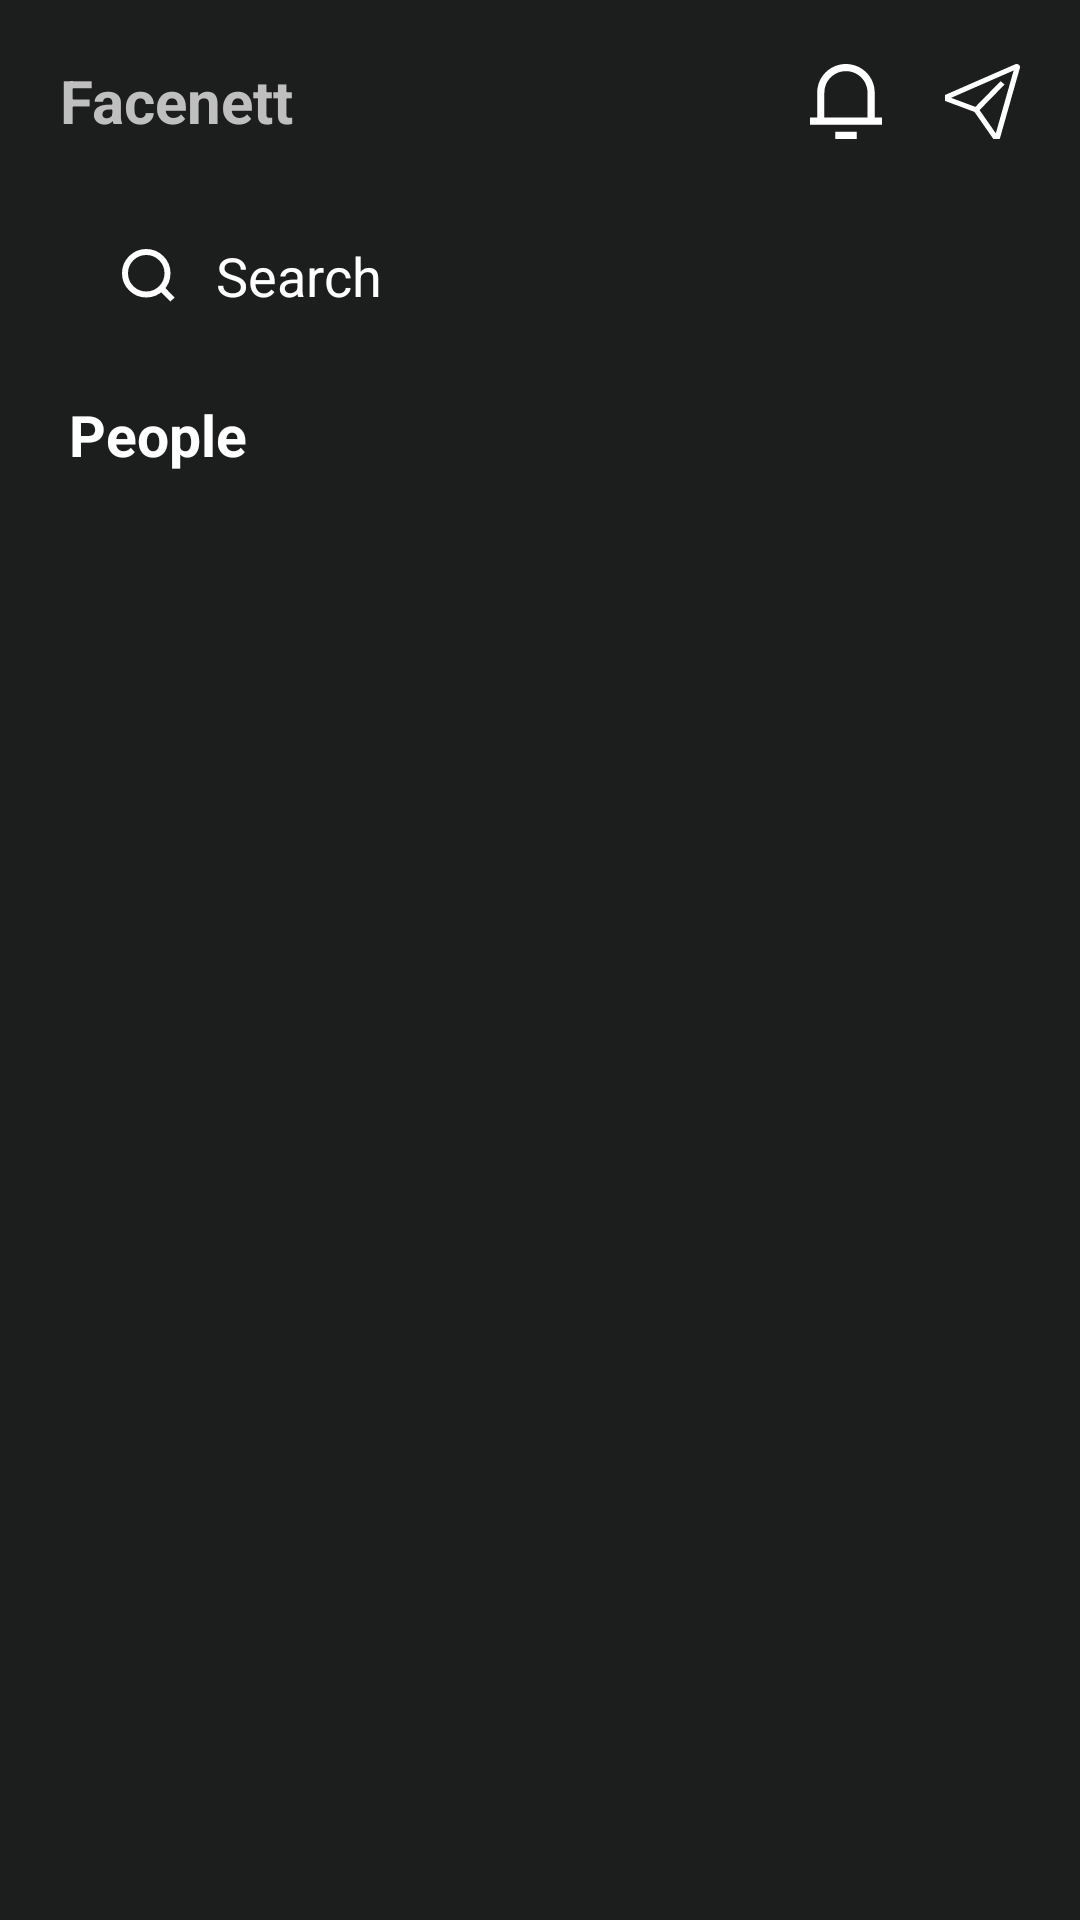

Locate icon controls on the screen. Image size 1080x1920, boxes as (x1, y1, x2, y2).
fly: (945, 64, 1020, 139)
ring: (810, 64, 882, 139)
